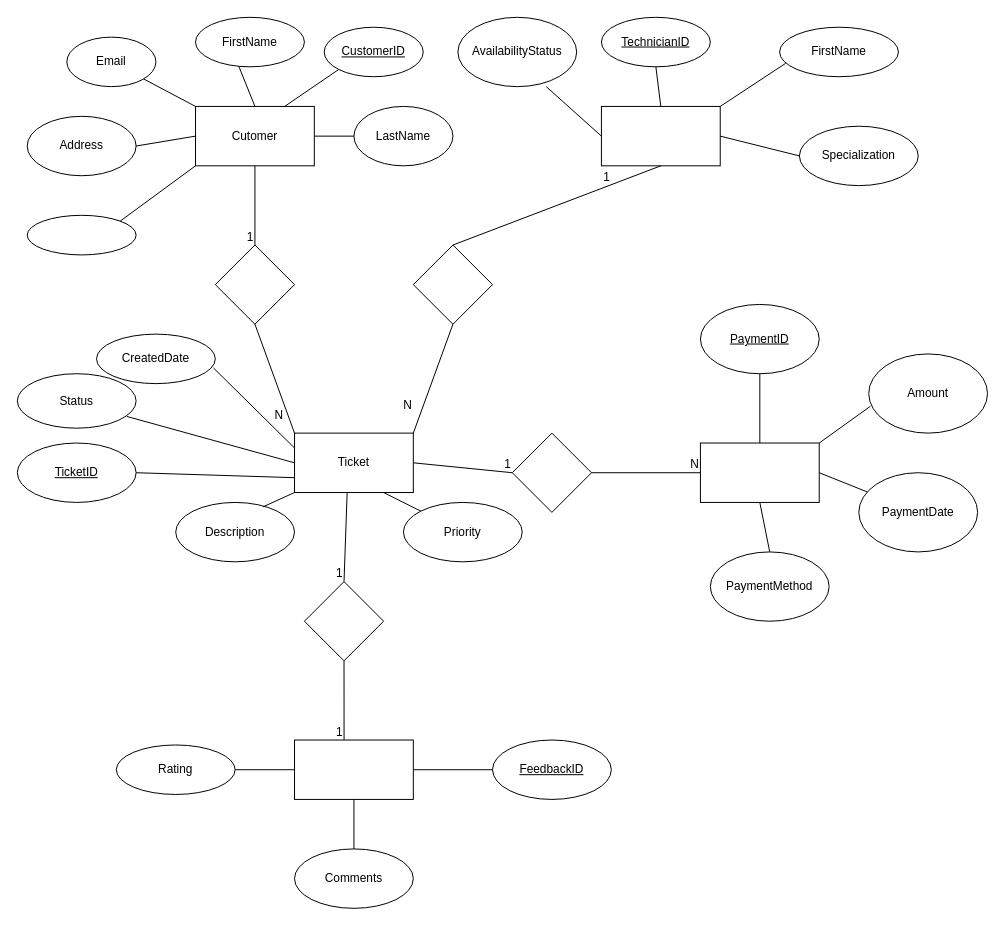
Image size: 1005x926. Some labels were removed from this diagram. The shapes that lost their labels are listed below. From the top down, each one's centre as x and y in pixels, then its label:
At pixel 660 135: "Technician".
At pixel 81 234: "Phone".
At pixel 254 284: "Places".
At pixel 452 284: "AssignedTo".
At pixel 551 472: "Generates".
At pixel 759 472: "Payment".
At pixel 343 621: "Receives".
At pixel 353 769: "Feedback".
